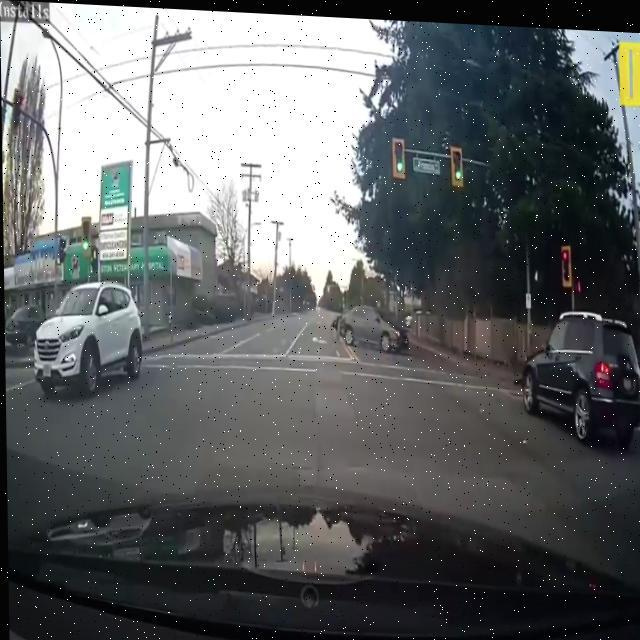normal: (18, 270, 162, 425), (515, 282, 640, 457), (325, 277, 414, 370)
